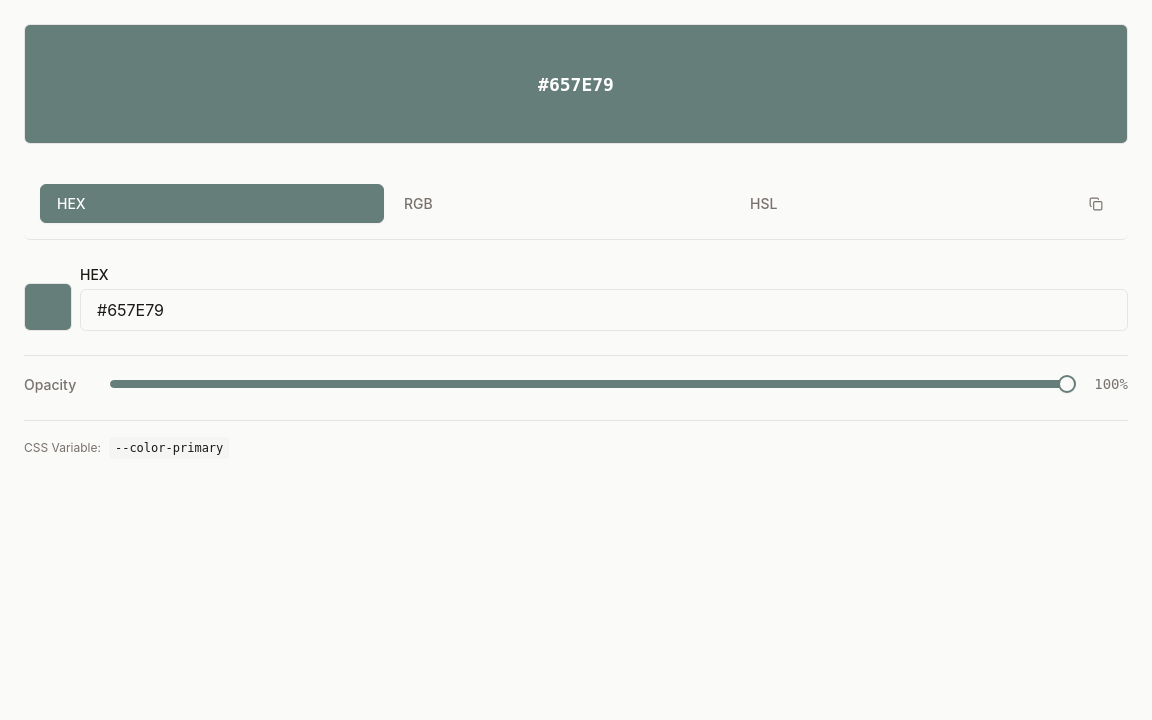
Test: Gate 3: Token Editing › ColorEditor › shows RGB sliders when RGB tab is active
# Click RGB tab
Click the button "RGB" at coordinates (418, 204), box [388,185,730,222]
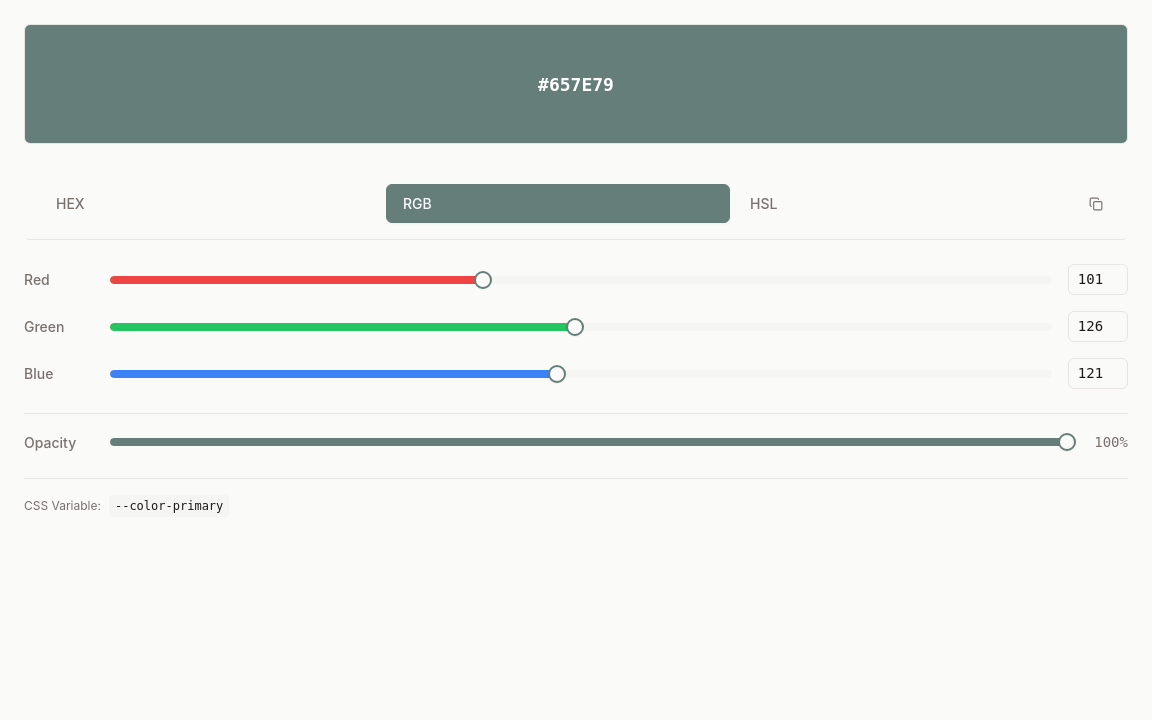
Check: the text "Red" is shown, box [24,271,50,288]
Check: the text "Green" is shown, box [24,318,64,335]
Check: the text "Blue" is shown, box [24,365,53,382]
